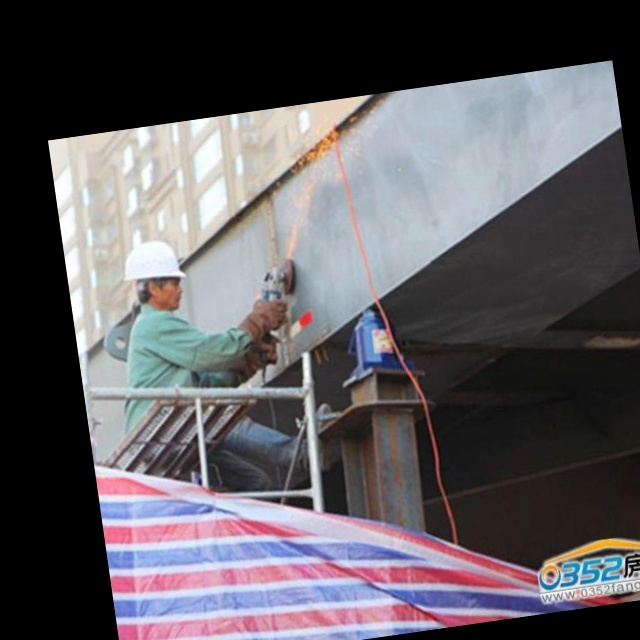Con_Casco: (119, 234, 190, 312)
